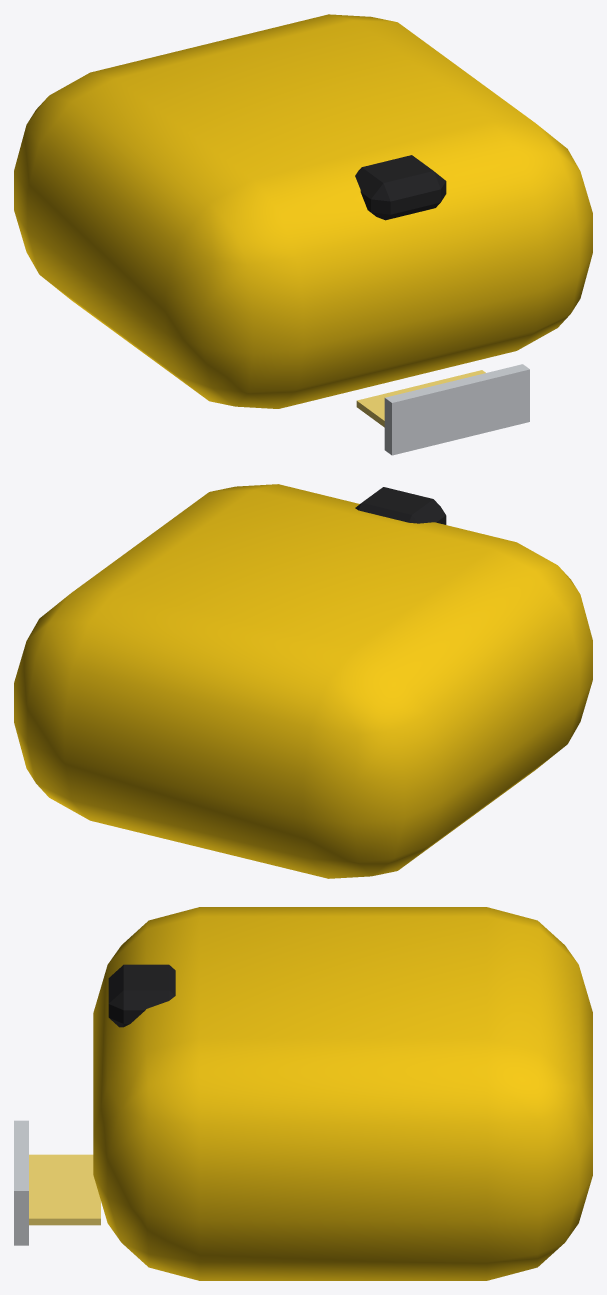
The model's file is tape_measure.glb.
3 renders of one model, top to bottom at view 1: azimuth 30°, elevation 25°; view 2: azimuth 150°, elevation 25°; view 3: azimuth 270°, elevation 25°, orthographic. The views are drawn at different scales.
Parts seen in each view (by area): view 1: tape_measure; view 2: tape_measure; view 3: tape_measure.
Boxes of the visible parts, <box> form: tape_measure: <box>14,14,592,455</box>; tape_measure: <box>14,484,592,878</box>; tape_measure: <box>14,907,592,1280</box>.
Size of the model in its own units: 0.0647 by 0.0333 by 0.075.
